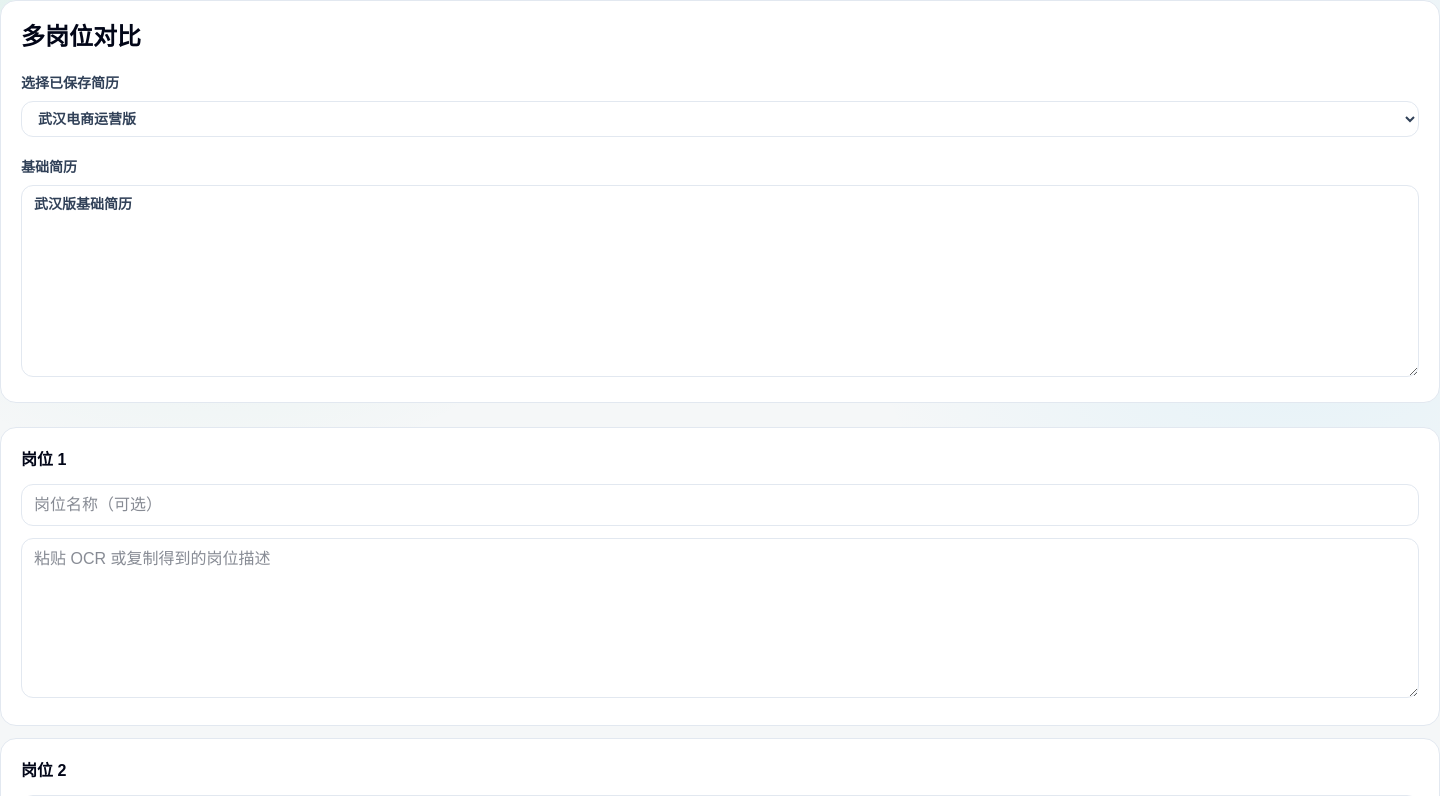
Test: CompareWorkbench › lets a signed-in user choose one of their saved resumes
The width and height of the screenshot is (1440, 796).
Select "潜江电商运营版" in the dropdown labelled "选择已保存简历" at (720, 119), box x1=21 y1=101 x2=1419 y2=137
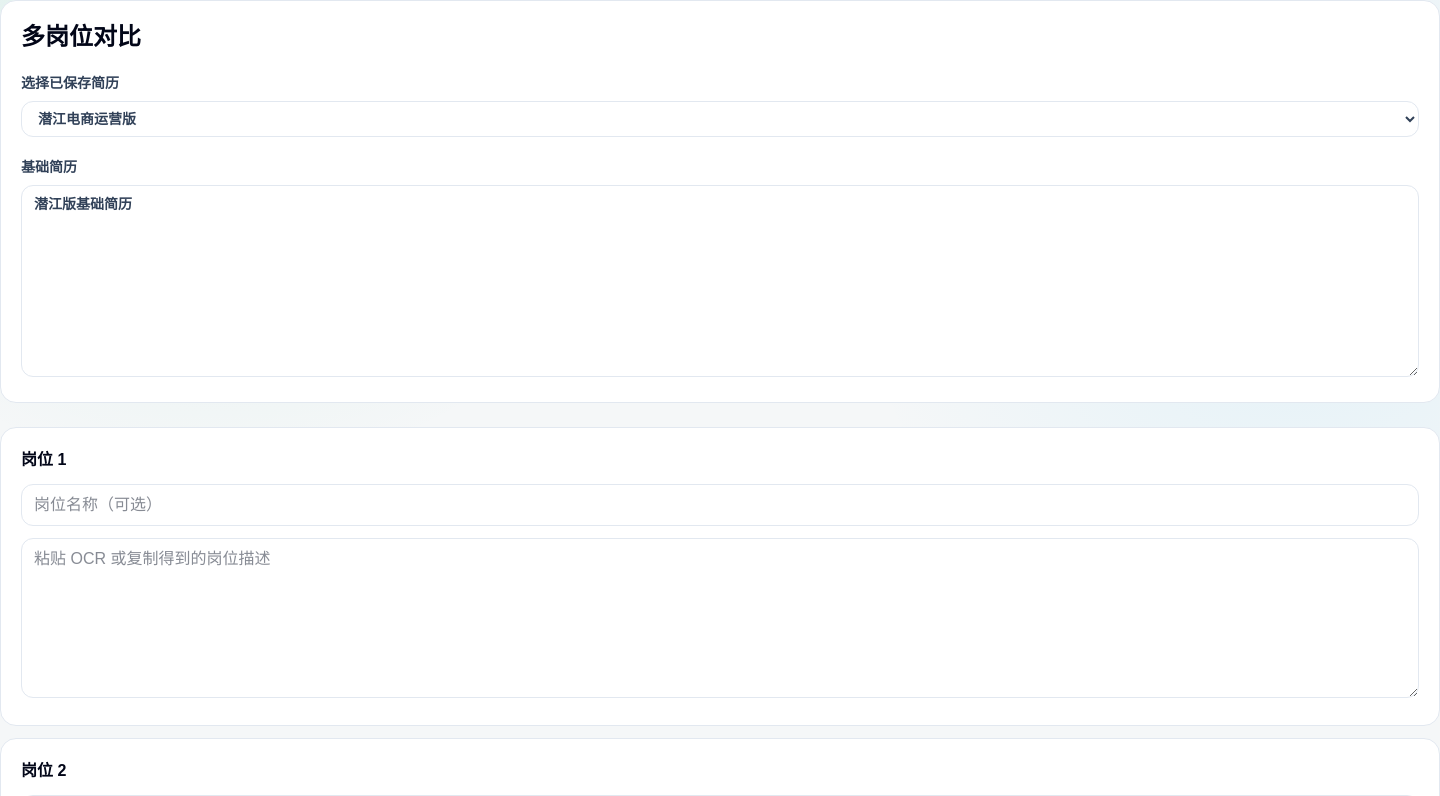
Expected: the text box labelled "基础简历" holds "潜江版基础简历", x1=21 y1=185 x2=1419 y2=377
